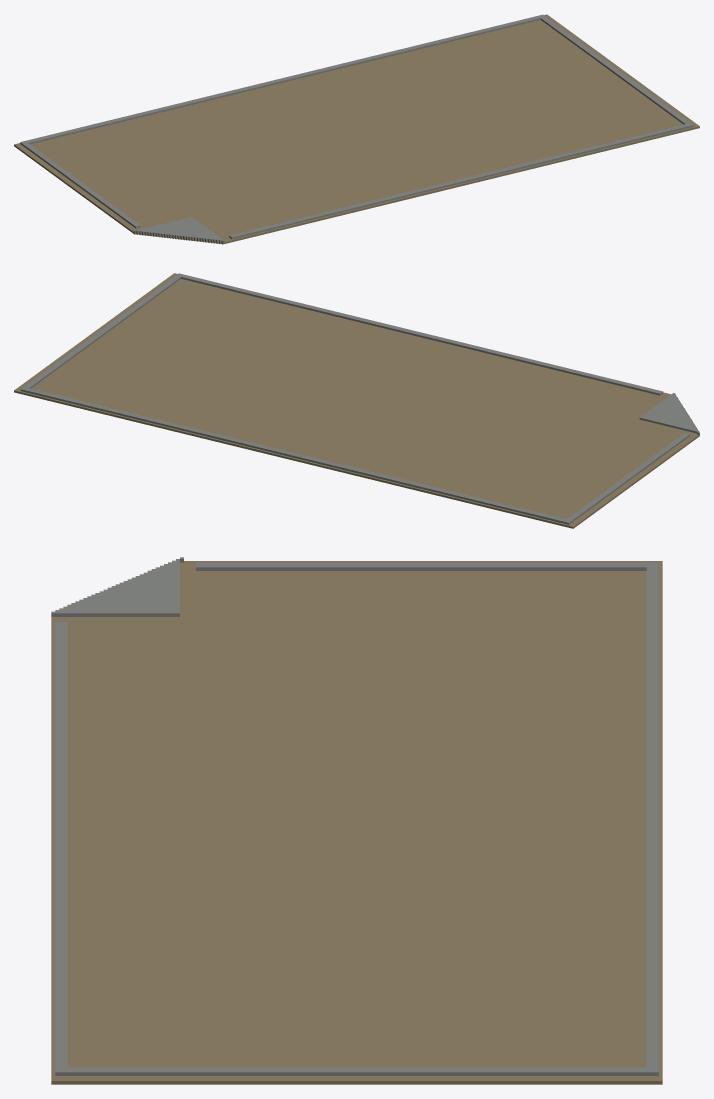
The model's file is sheet_canvas.glb.
3 renders of one model, top to bottom at view 1: azimuth 30°, elevation 25°; view 2: azimuth 150°, elevation 25°; view 3: azimuth 270°, elevation 25°, orthographic. The views are drawn at different scales.
Parts seen in each view (by area): view 1: sheet_canvas:compound; view 2: sheet_canvas:compound; view 3: sheet_canvas:compound.
Boxes of the visible parts, x1=… form: sheet_canvas:compound: x1=14, y1=14, x2=699, y2=244; sheet_canvas:compound: x1=14, y1=273, x2=699, y2=528; sheet_canvas:compound: x1=51, y1=557, x2=662, y2=1084.
Size of the model in its own units: 0.612 by 0.004 by 0.304.
